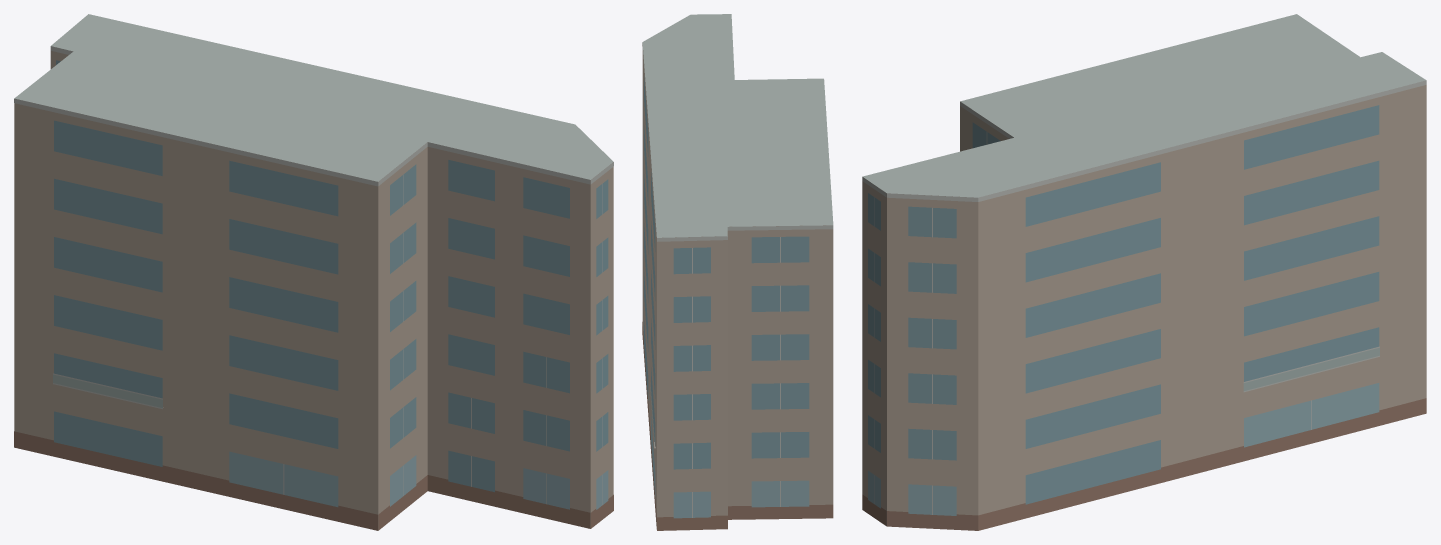
Rendered from survey-upis-32555228.glb.
3 views of the same model, side by side, from view 1: azimuth 30°, elevation 25°; view 2: azimuth 150°, elevation 25°; view 3: azimuth 270°, elevation 25° (orthographic). The views are drawn at different scales.
Parts seen in each view (by area): view 1: survey-upis-32555228.tmp; view 2: survey-upis-32555228.tmp; view 3: survey-upis-32555228.tmp.
Boxes of the visible parts, x1,y1,x2,y2 form: survey-upis-32555228.tmp: (14, 14, 613, 530); survey-upis-32555228.tmp: (642, 14, 833, 530); survey-upis-32555228.tmp: (862, 14, 1426, 530).
Size of the model in its own units: 21.64 by 18.3 by 28.1.
